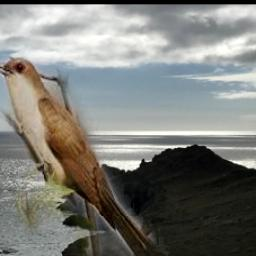Cuckoo: (0, 57, 176, 256)
